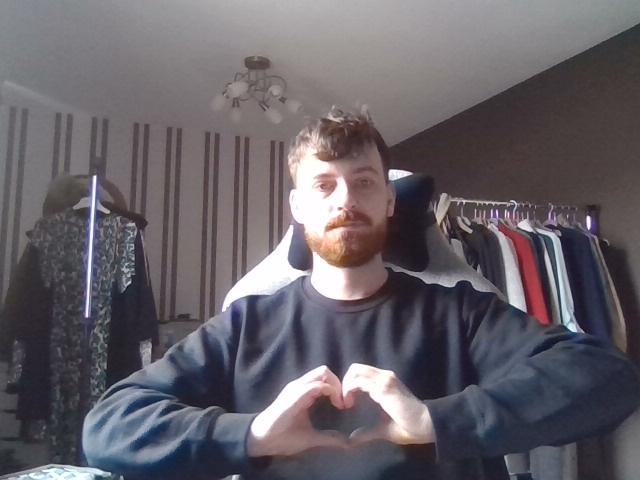Love: (242, 353, 430, 469)
